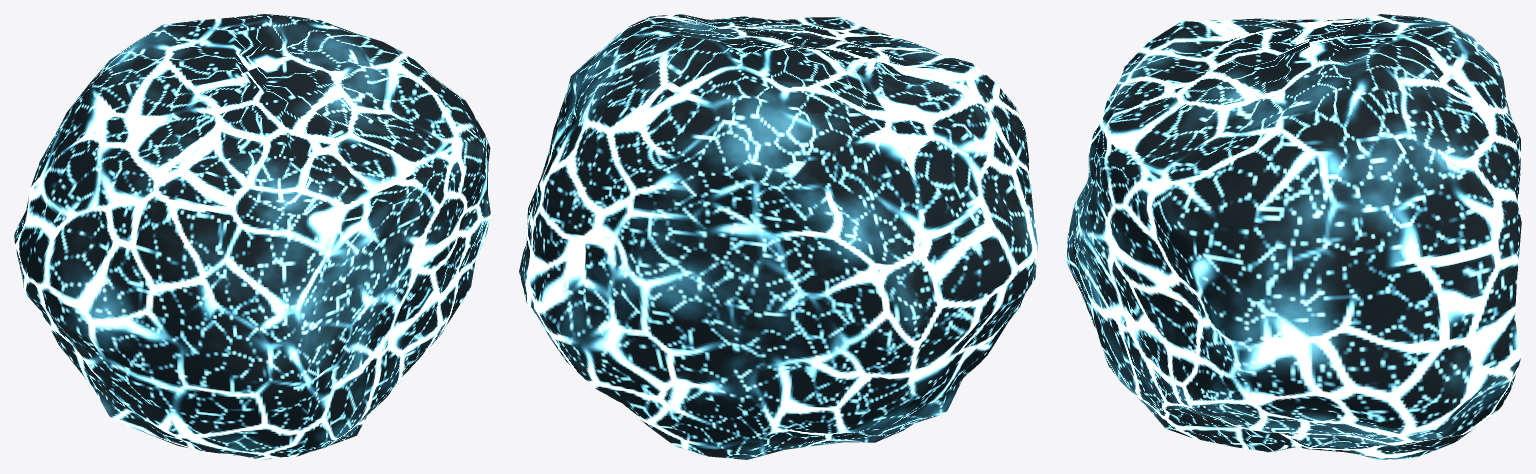
Rendered from rock_hot_frost.glb.
3 views of the same model, side by side, from view 1: azimuth 30°, elevation 25°; view 2: azimuth 150°, elevation 25°; view 3: azimuth 270°, elevation 25° (orthographic). The views are drawn at different scales.
Visible parts, largest first — view 1: rock; view 2: rock; view 3: rock.
Boxes of the visible parts, x1,y1,x2,y2 form: rock: (14, 14, 490, 459); rock: (519, 14, 1037, 459); rock: (1066, 14, 1521, 459).
Size of the model in its own units: 2.04 by 1.74 by 1.71.
Materials: 1 (1 with a texture image).
